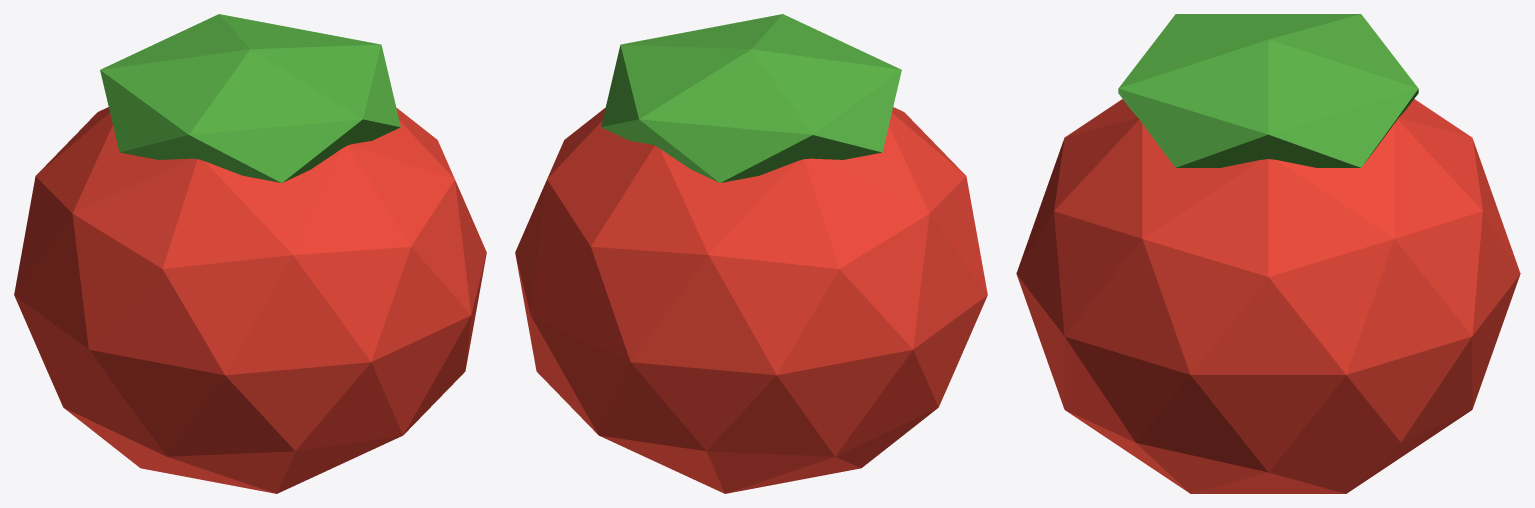
File: harvest_drop_tomato.glb
The picture shows the model from 3 angles, left to right: view 1: azimuth 30°, elevation 25°; view 2: azimuth 150°, elevation 25°; view 3: azimuth 270°, elevation 25°; orthographic projection. The views are drawn at different scales.
Parts seen in each view (by area): view 1: FTF_Harvest_Drop_Tomato_Mesh; view 2: FTF_Harvest_Drop_Tomato_Mesh; view 3: FTF_Harvest_Drop_Tomato_Mesh.
Part boxes in pixels (<box>): FTF_Harvest_Drop_Tomato_Mesh: <box>14,14,486,493</box>; FTF_Harvest_Drop_Tomato_Mesh: <box>515,14,987,493</box>; FTF_Harvest_Drop_Tomato_Mesh: <box>1016,14,1520,493</box>.
Size of the model in its own units: 0.3804 by 0.385 by 0.4.
